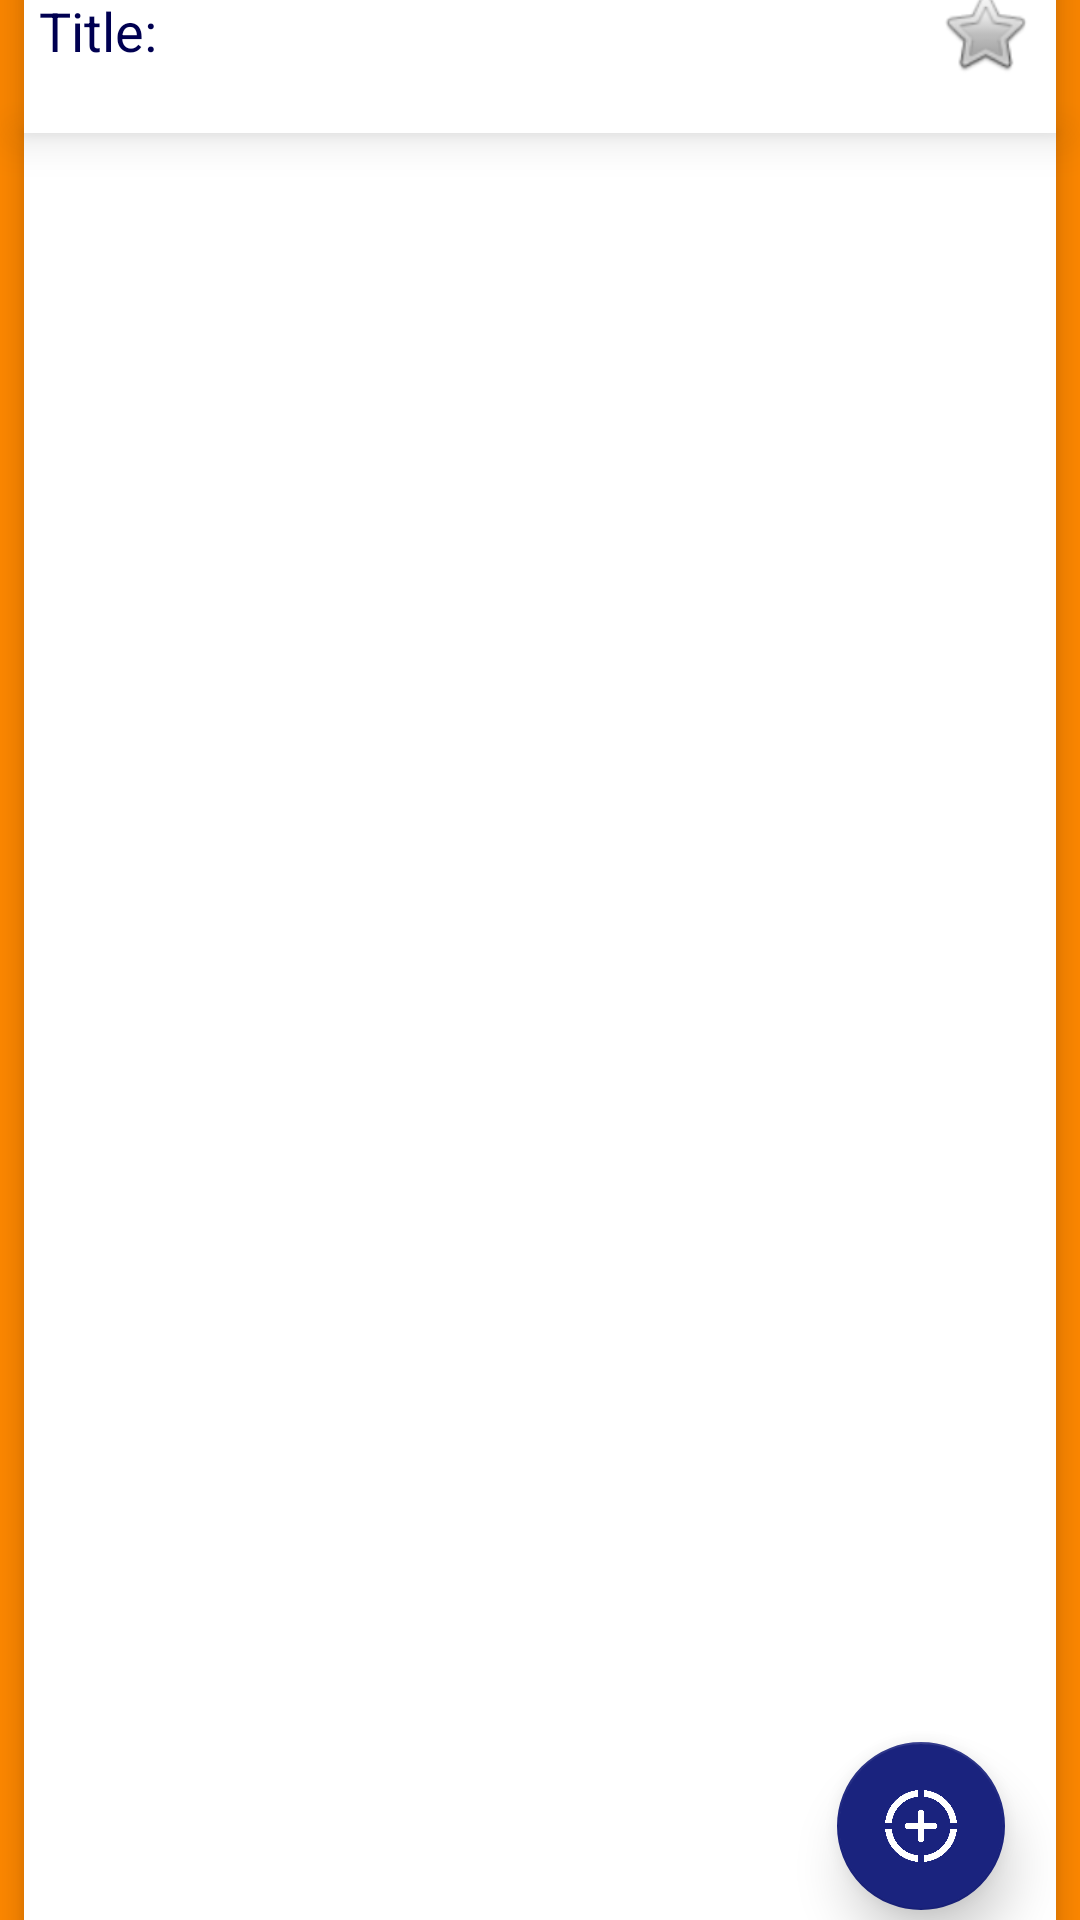

Where icons sit on this 1080x1920 app screen, as (x1, y1, x2, y2):
plus: (837, 1742, 1005, 1910)
